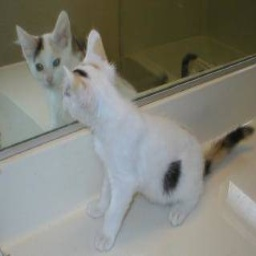cat: (16, 25, 230, 243)
